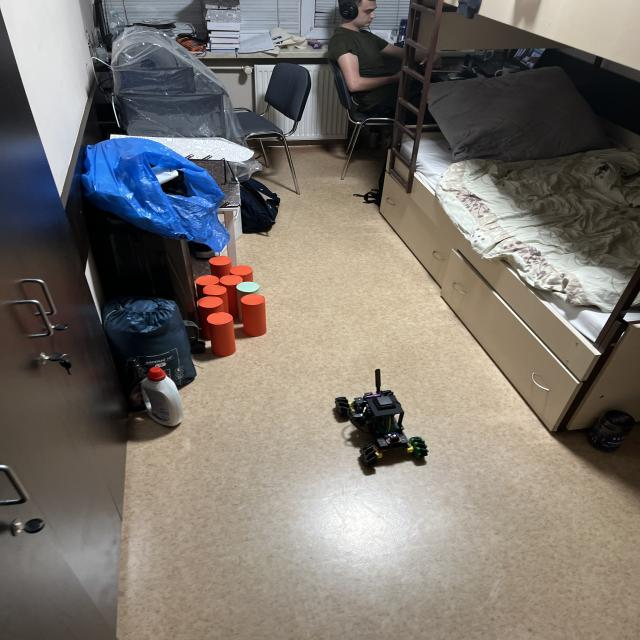robot: (334, 369, 428, 467)
